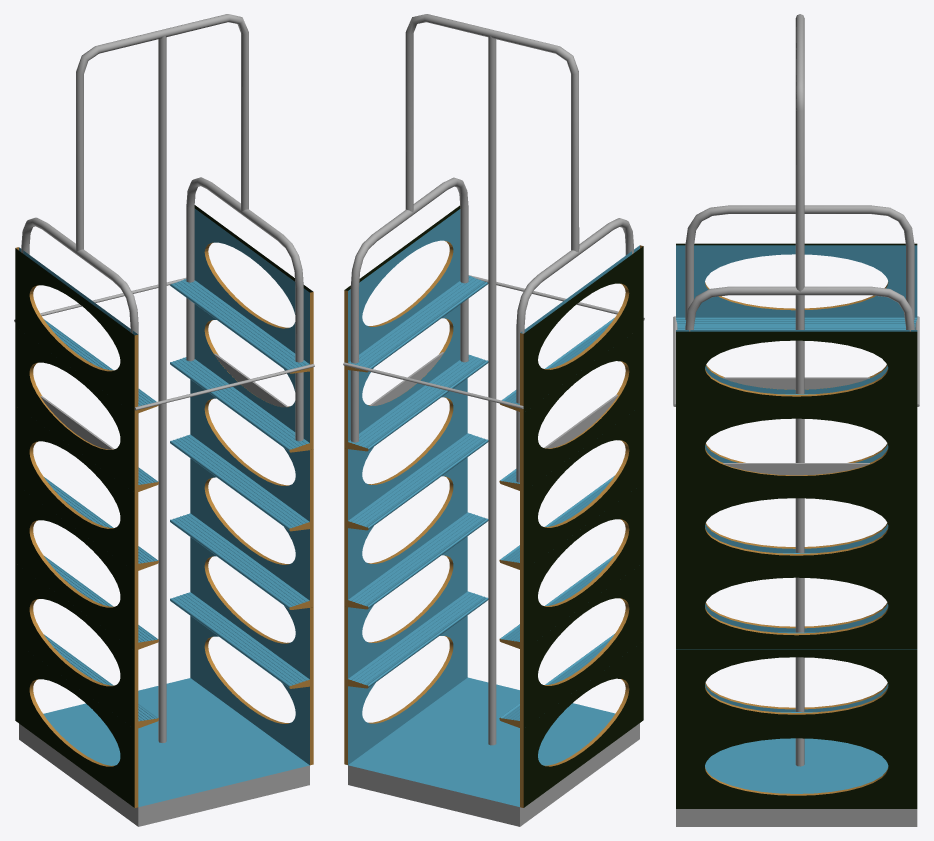
Rendered from Vertical_Stairs.glb.
The picture shows the model from 3 angles, left to right: view 1: azimuth 30°, elevation 25°; view 2: azimuth 150°, elevation 25°; view 3: azimuth 270°, elevation 25°; orthographic projection.
Visible parts, largest first — view 1: Vertical_Stairs_End, Vertical_Stairs_Top, Vertical_Stairs_Step; view 2: Vertical_Stairs_End, Vertical_Stairs_Top, Vertical_Stairs_Step; view 3: Vertical_Stairs_End, Vertical_Stairs_Top, Vertical_Stairs_Step.
Boxes of the visible parts, x1,y1,x2,y2 form: Vertical_Stairs_End: (15, 205, 313, 826); Vertical_Stairs_Top: (21, 14, 303, 480); Vertical_Stairs_Step: (14, 206, 314, 413); Vertical_Stairs_End: (344, 245, 643, 826); Vertical_Stairs_Top: (350, 14, 633, 482); Vertical_Stairs_Step: (343, 205, 644, 411); Vertical_Stairs_End: (676, 253, 917, 826); Vertical_Stairs_Top: (685, 14, 914, 475); Vertical_Stairs_Step: (673, 243, 919, 410).
Bounding box in the file's own units: 0.95 × 3.71 × 1.12.
